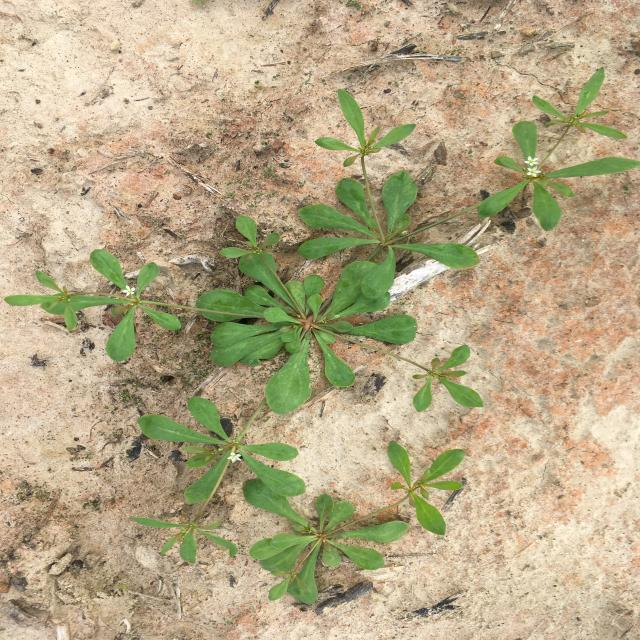Carpetweed: (3, 66, 640, 563), (243, 440, 467, 606)
